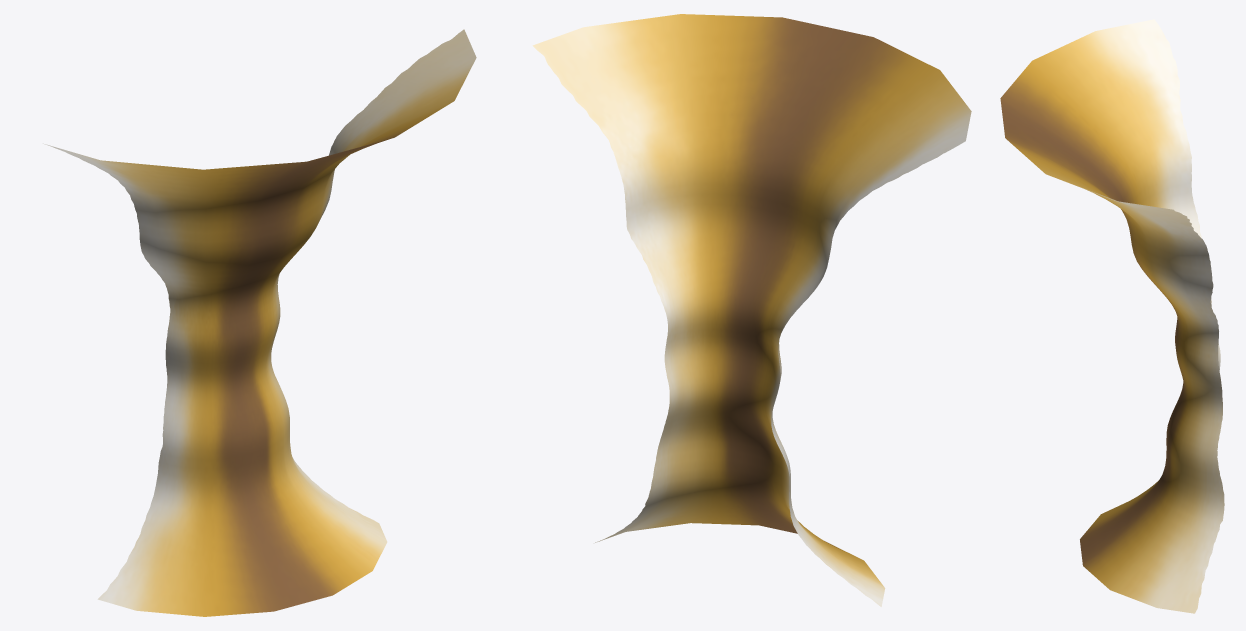
File: longjf_plane01.FBX
3 renders of one model, left to right at view 1: azimuth 30°, elevation 25°; view 2: azimuth 150°, elevation 25°; view 3: azimuth 270°, elevation 25°, orthographic. The views are drawn at different scales.
Parts seen in each view (by area): view 1: longjf_plane01; view 2: longjf_plane01; view 3: longjf_plane01.
Boxes of the visible parts, box(x1,y1,x2,y2) form: longjf_plane01: box(43, 29, 476, 616); longjf_plane01: box(532, 14, 971, 606); longjf_plane01: box(1000, 19, 1224, 613).
Size of the model in its own units: 174 by 177 by 85.03.
